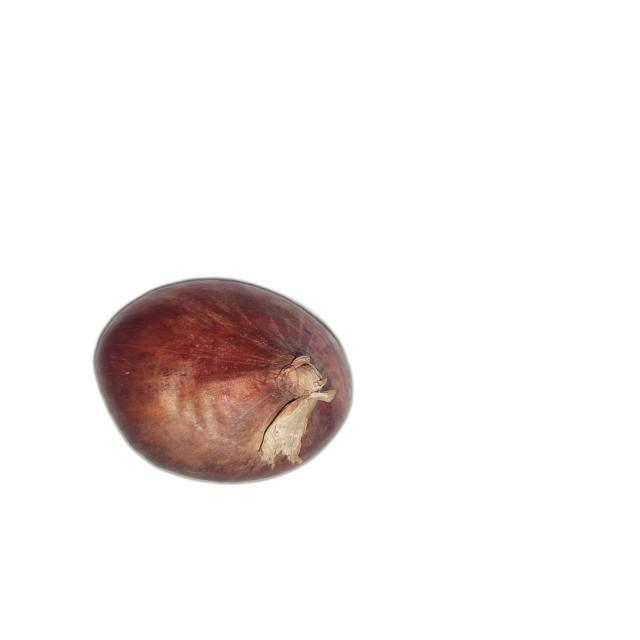onion: (92, 277, 354, 484)
